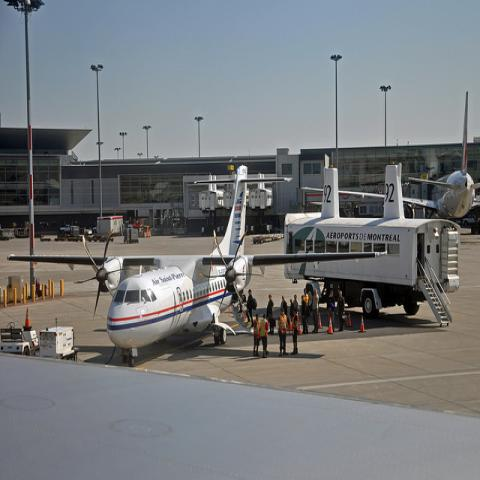bus: (282, 153, 474, 334)
truck: (87, 216, 122, 242), (462, 214, 480, 225), (59, 224, 72, 233)
